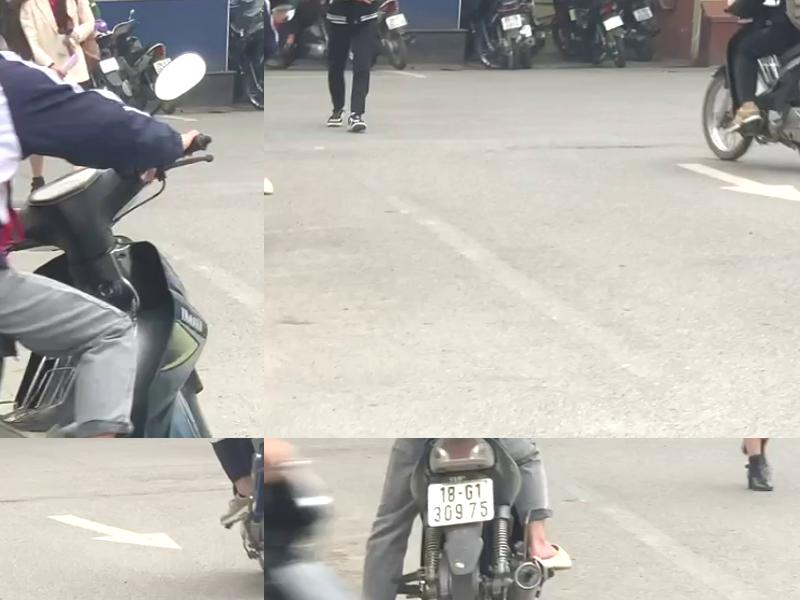license_plate: (428, 475, 504, 530), (97, 56, 124, 76), (386, 13, 410, 31), (502, 14, 525, 31), (634, 6, 656, 22), (604, 15, 625, 31)
motorcyclist: (0, 0, 264, 438), (352, 438, 600, 600), (700, 0, 800, 174), (181, 438, 264, 600)
